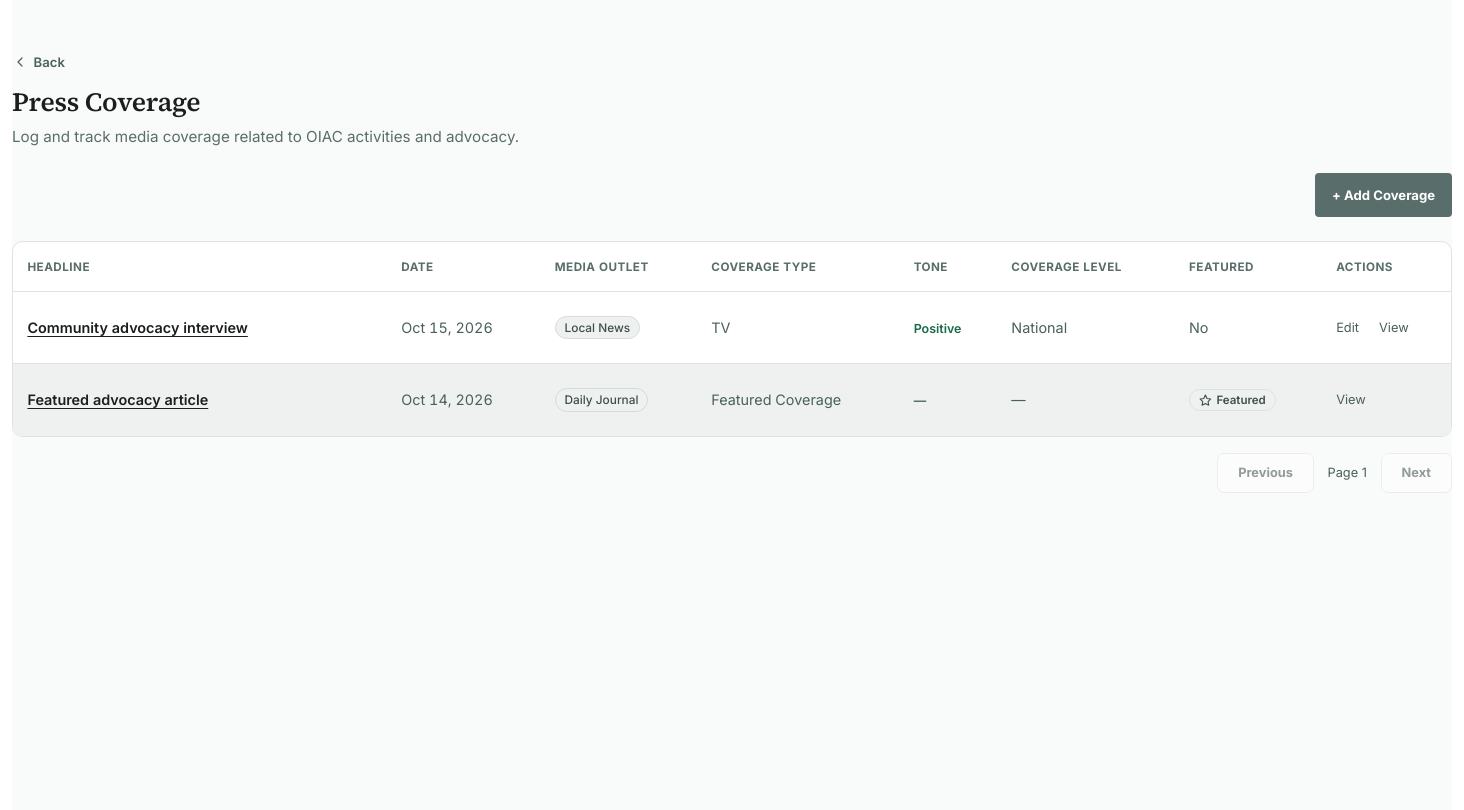
Test: requires all six featured fields including a publication logo
Click the button "+ Add Coverage". click: (1384, 195)
box: [1315, 173, 1452, 217]
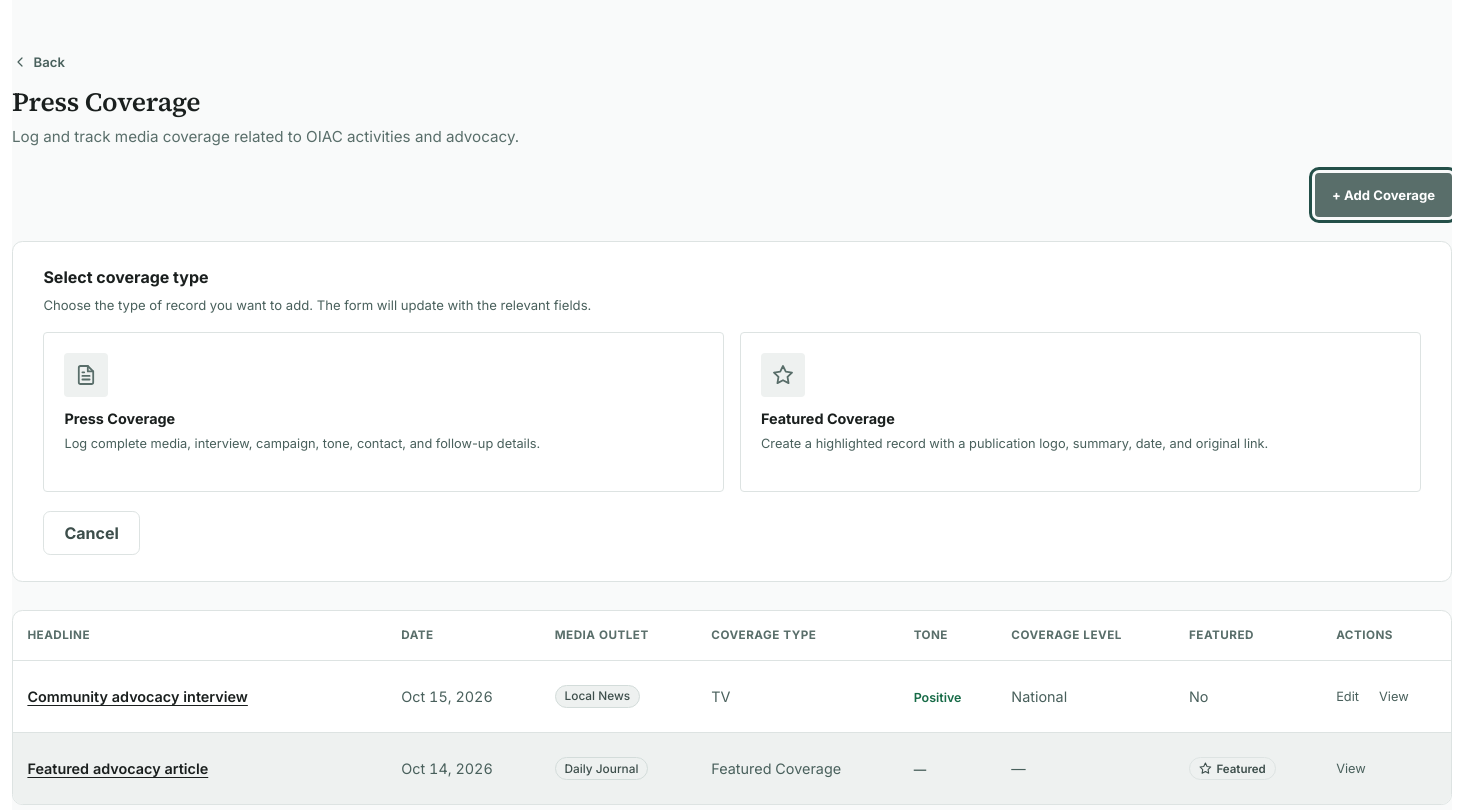
Click the button "Featured Coverage Create a highlighted record". click: (783, 375)
box: [740, 332, 1421, 492]
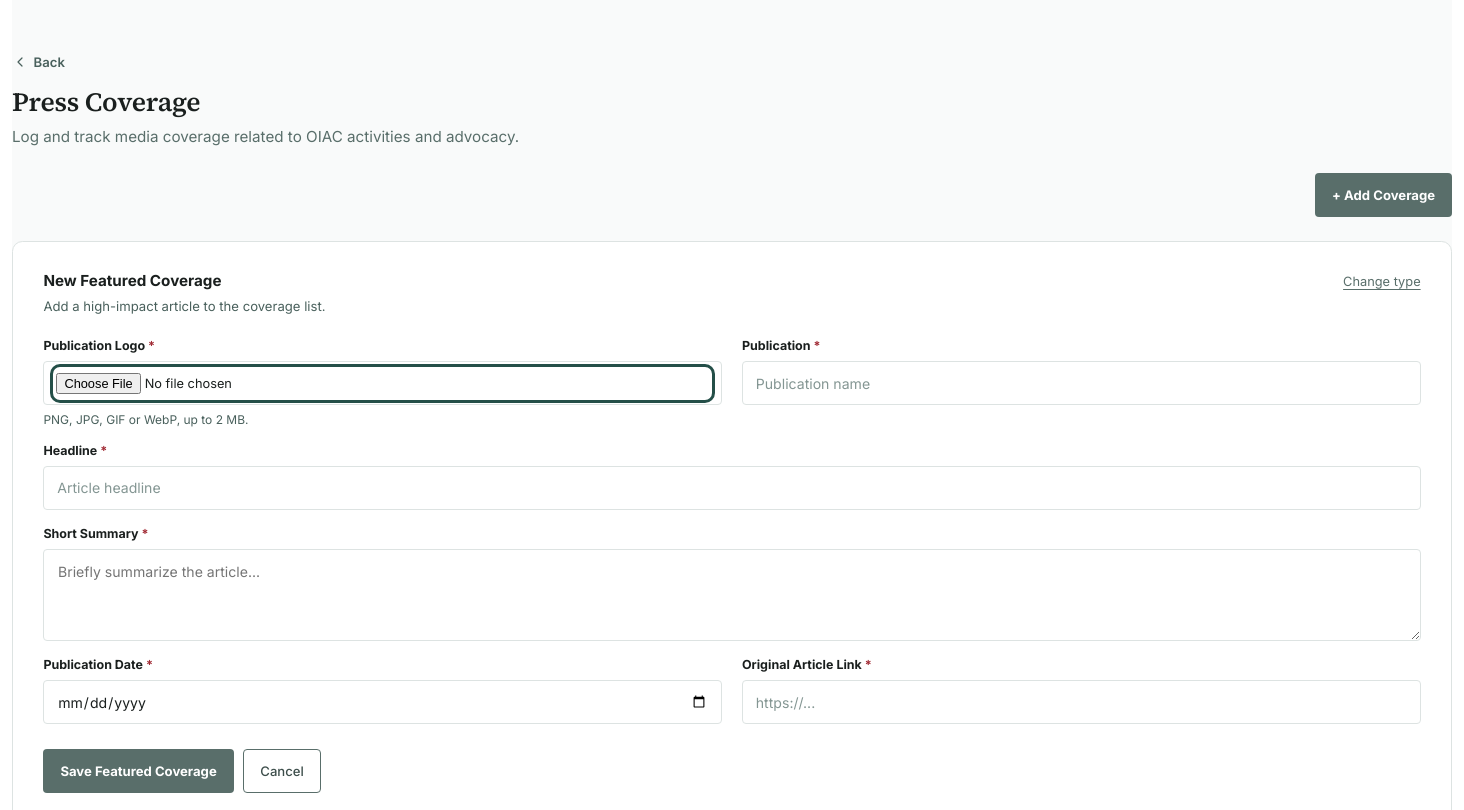
Click the button "Save Featured Coverage". click: (139, 771)
box: [43, 749, 234, 793]
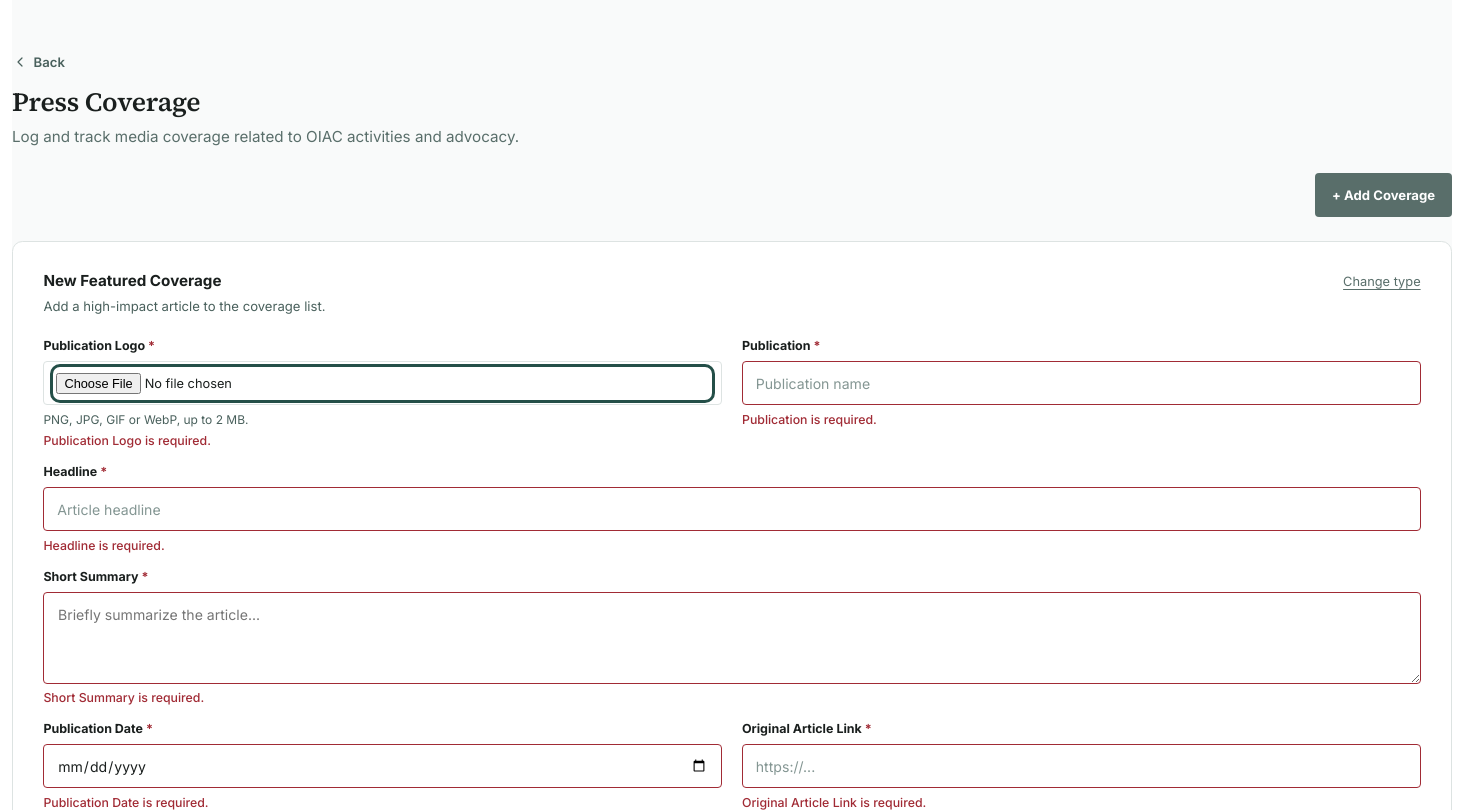
Result: the text "Publication Logo is required." is shown 6 times at [43, 433, 211, 448]; [742, 412, 877, 427]; [43, 538, 165, 553]; [43, 690, 204, 705]; [43, 795, 209, 809]; [742, 795, 926, 809]
